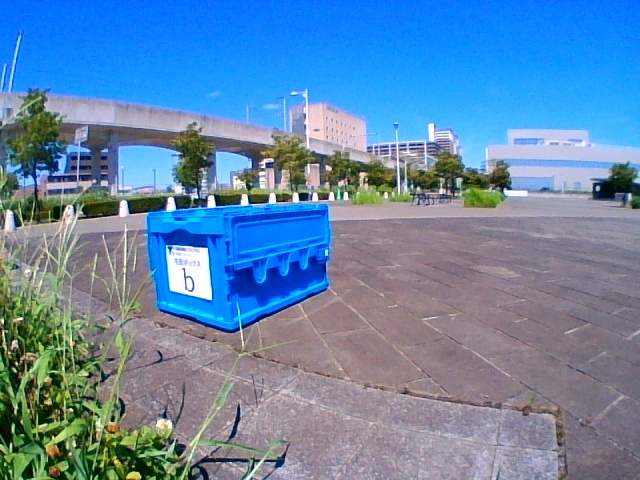blue_box: (158, 212, 296, 305)
tag_b: (173, 253, 208, 292)
